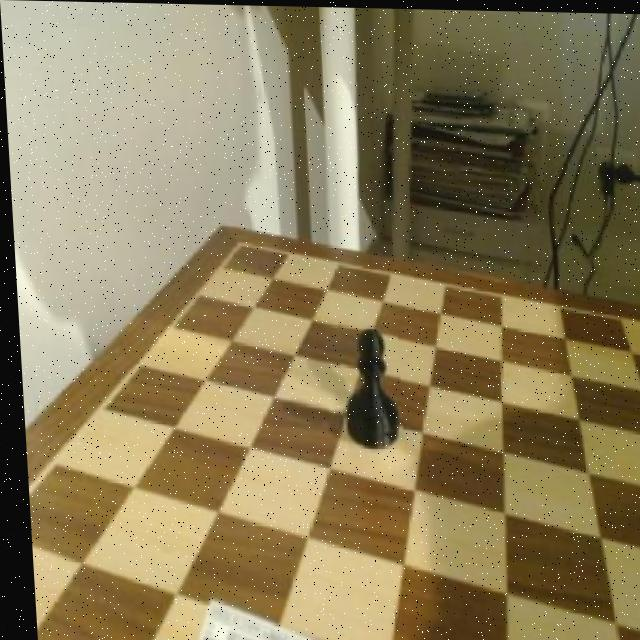black-knight: (334, 319, 399, 451)
